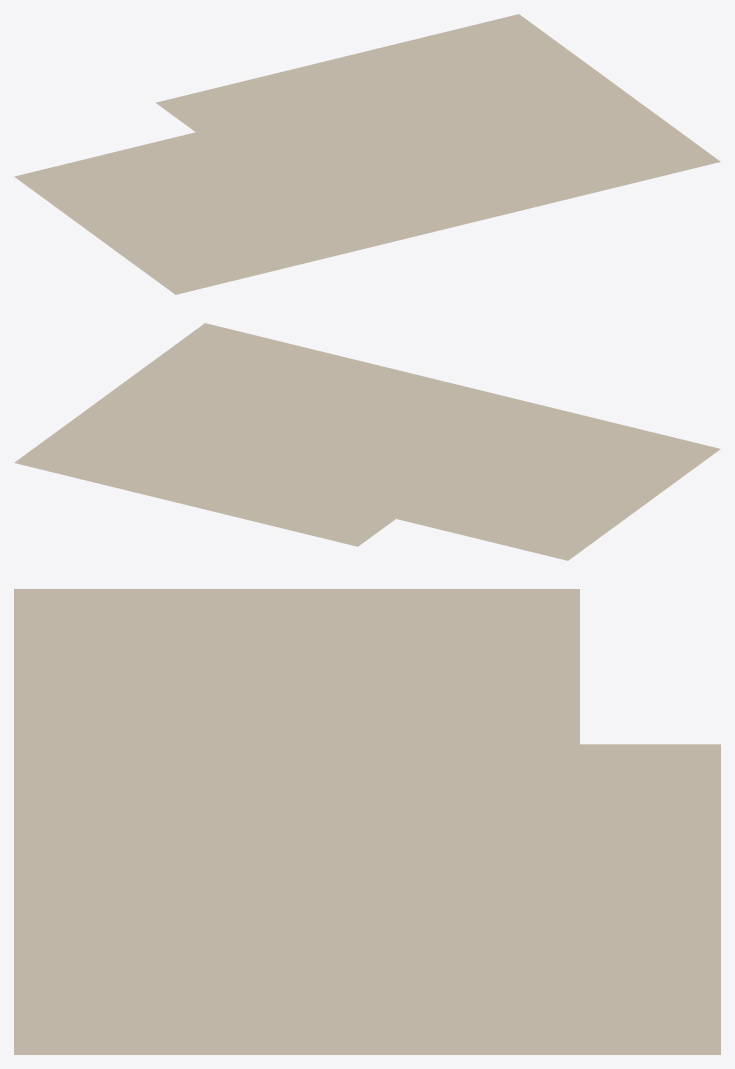
File: N06_Piso_Cuarto_02_new.fbx
3 views of the same model, one above another, from view 1: azimuth 30°, elevation 25°; view 2: azimuth 150°, elevation 25°; view 3: azimuth 270°, elevation 25° (orthographic). The views are drawn at different scales.
Visible parts, largest first — view 1: N06_Piso_Cuarto_02; view 2: N06_Piso_Cuarto_02; view 3: N06_Piso_Cuarto_02.
Part boxes in pixels (left/top/right/bottom): N06_Piso_Cuarto_02: left=14, top=14, right=720, bottom=294; N06_Piso_Cuarto_02: left=14, top=323, right=720, bottom=560; N06_Piso_Cuarto_02: left=14, top=589, right=720, bottom=1054.
Bounding box in the file's own units: 600 × 6.27e-05 × 385.
Materials: 1 (1 with a texture image).
